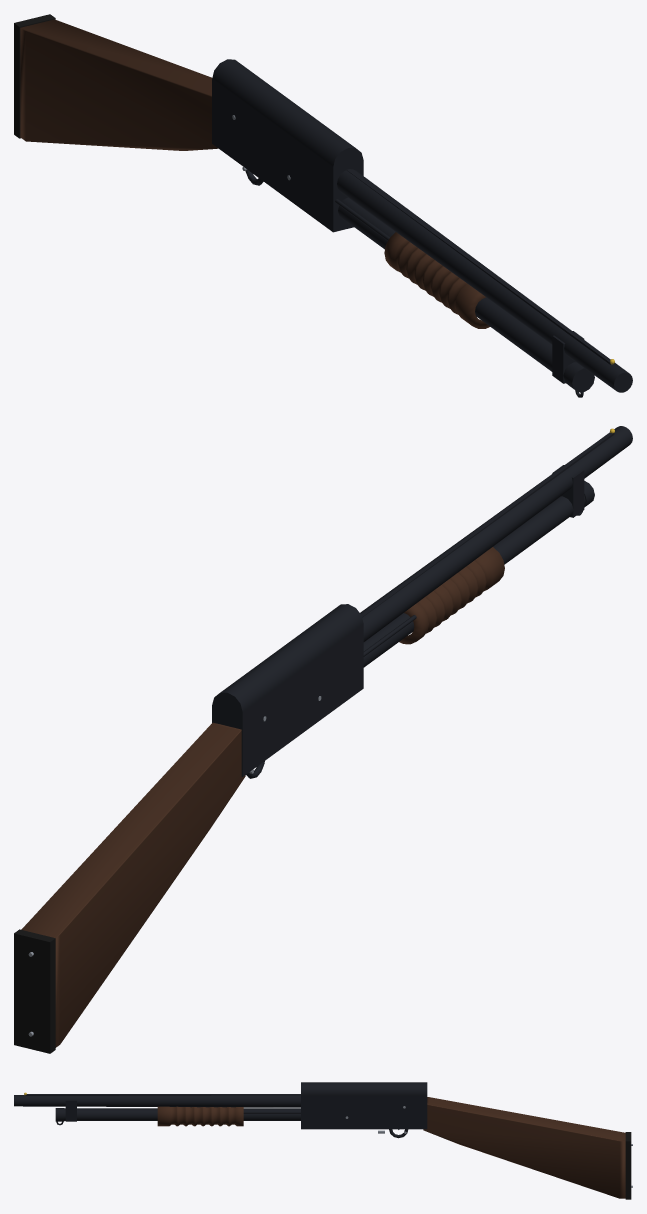
The model's file is ithaca37.glb.
The picture shows the model from 3 angles, top to bottom: view 1: azimuth 30°, elevation 25°; view 2: azimuth 150°, elevation 25°; view 3: azimuth 270°, elevation 25°; orthographic projection. The views are drawn at different scales.
Visible parts, largest first — view 1: Mesh_StockMesh, Mesh_ReceiverBody, Mesh_Barrel, Mesh_ReceiverTop, Mesh_ForendSlide, Mesh_MagTube, Mesh_BarrelRib, Mesh_ButtPlate, Mesh_MagCap, Mesh_BarrelBracket; view 2: Mesh_StockMesh, Mesh_ReceiverBody, Mesh_Barrel, Mesh_ReceiverTop, Mesh_ButtPlate, Mesh_ForendSlide, Mesh_MagTube, Mesh_BarrelRib; view 3: Mesh_StockMesh, Mesh_ReceiverBody, Mesh_Barrel, Mesh_ReceiverTop, Mesh_MagTube, Mesh_ForendSlide, Mesh_BarrelRib, Mesh_ButtPlate, Mesh_BarrelBracket.
Boxes of the visible parts, bbox=[...] form: Mesh_StockMesh: bbox=[20, 19, 218, 150]; Mesh_ReceiverBody: bbox=[212, 79, 363, 232]; Mesh_Barrel: bbox=[337, 169, 632, 392]; Mesh_ReceiverTop: bbox=[212, 59, 363, 176]; Mesh_ForendSlide: bbox=[384, 232, 489, 328]; Mesh_MagTube: bbox=[338, 197, 574, 376]; Mesh_BarrelRib: bbox=[347, 169, 613, 364]; Mesh_ButtPlate: bbox=[14, 14, 55, 138]; Mesh_MagCap: bbox=[564, 362, 594, 392]; Mesh_BarrelBracket: bbox=[552, 331, 584, 383]; Mesh_StockMesh: bbox=[21, 722, 245, 1047]; Mesh_ReceiverBody: bbox=[212, 624, 363, 776]; Mesh_Barrel: bbox=[360, 426, 632, 641]; Mesh_ReceiverTop: bbox=[212, 604, 363, 724]; Mesh_ButtPlate: bbox=[14, 929, 55, 1053]; Mesh_ForendSlide: bbox=[399, 547, 504, 644]; Mesh_MagTube: bbox=[363, 495, 585, 667]; Mesh_BarrelRib: bbox=[361, 432, 614, 617]; Mesh_StockMesh: bbox=[423, 1097, 625, 1198]; Mesh_ReceiverBody: bbox=[301, 1095, 427, 1129]; Mesh_Barrel: bbox=[14, 1095, 300, 1107]; Mesh_ReceiverTop: bbox=[301, 1082, 427, 1095]; Mesh_MagTube: bbox=[64, 1108, 300, 1120]; Mesh_ForendSlide: bbox=[157, 1106, 243, 1126]; Mesh_BarrelRib: bbox=[25, 1094, 300, 1095]; Mesh_ButtPlate: bbox=[625, 1132, 631, 1199]; Mesh_BarrelBracket: bbox=[65, 1100, 76, 1121].
Size of the model in its own units: 0.04 by 0.2145 by 1.08.
